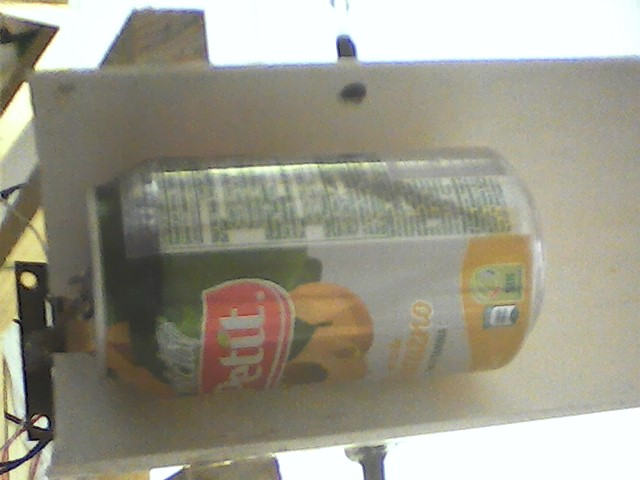lata: (83, 143, 551, 408)
